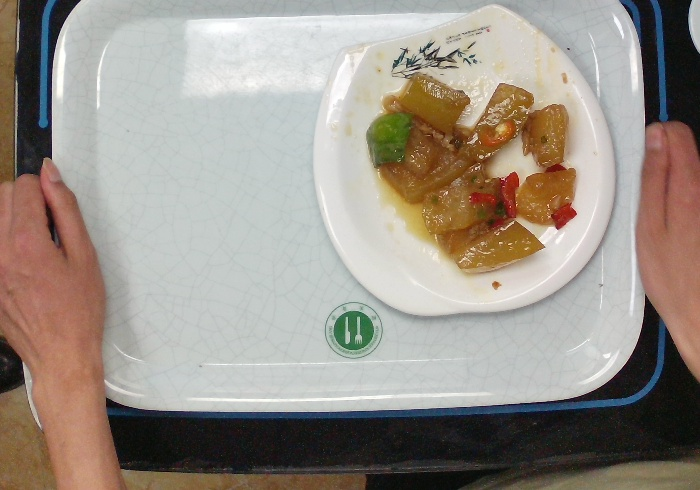JYsf-Mian_Pan: (310, 1, 617, 317)
